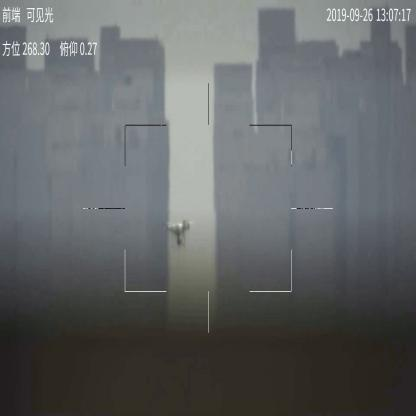uav: (163, 219, 197, 249)
